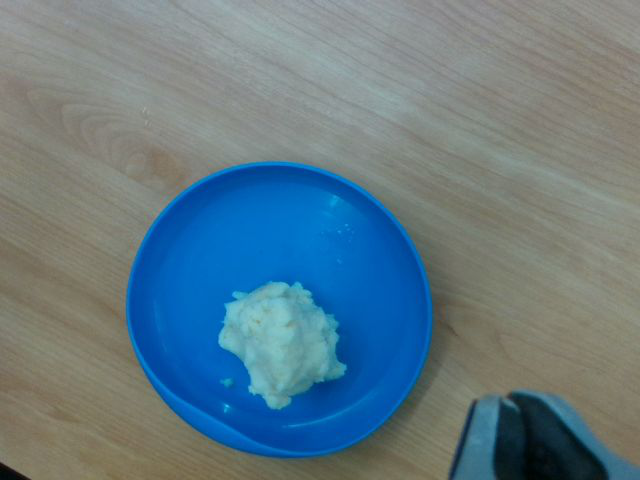mashed_potato: (219, 281, 347, 410)
